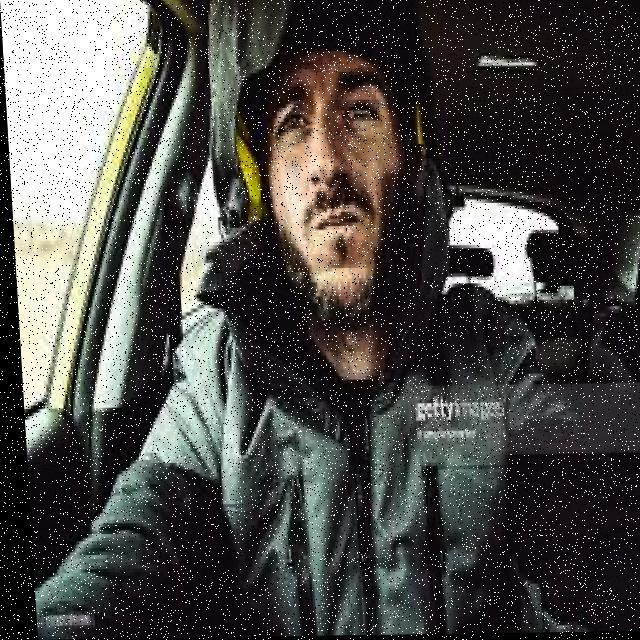noSeatbelt: (142, 252, 534, 638)
